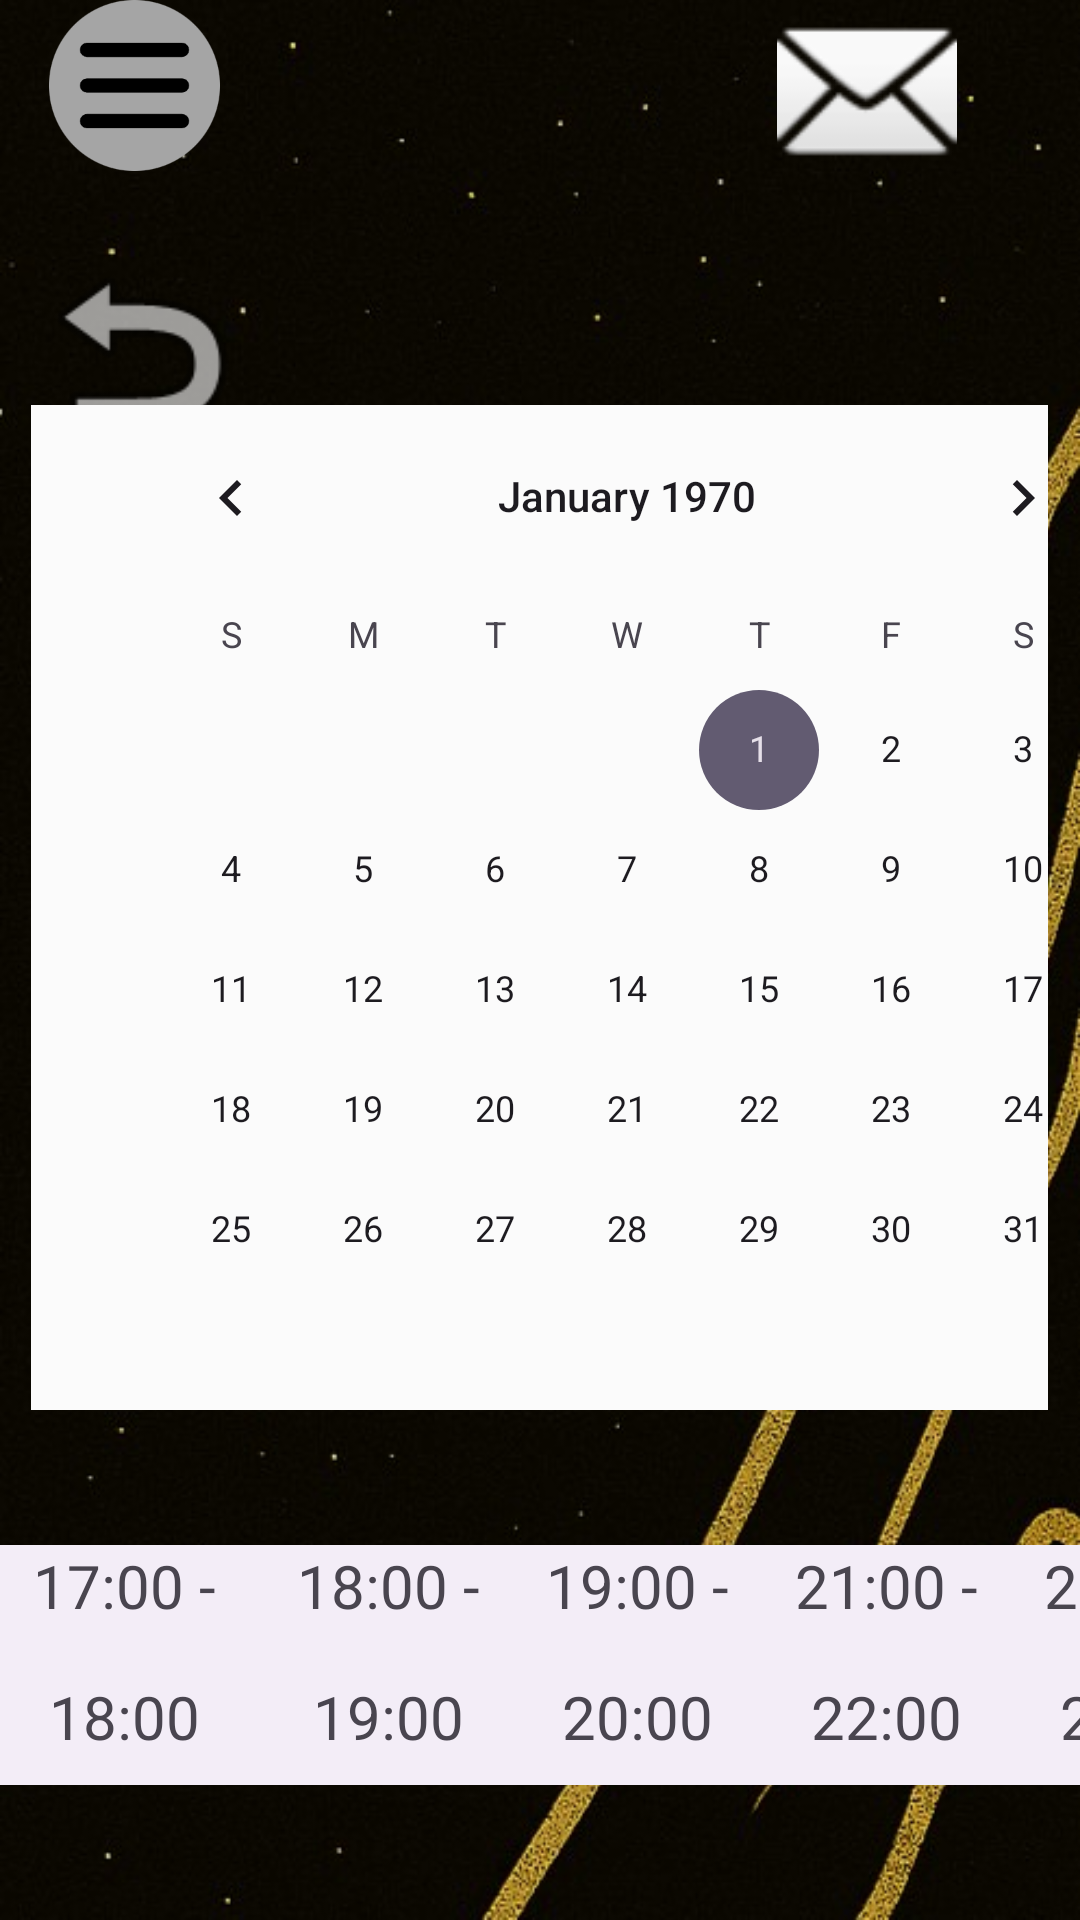

Icon bounding boxes for this 1080x1920 phone screenshot, format {"x1": x1, "y1": y1, "x2": x2, "y2": y2}:
burger menu: {"x1": 49, "y1": 0, "x2": 220, "y2": 171}
email: {"x1": 734, "y1": 27, "x2": 974, "y2": 156}
